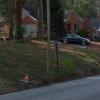Car: (59, 29, 94, 48)
